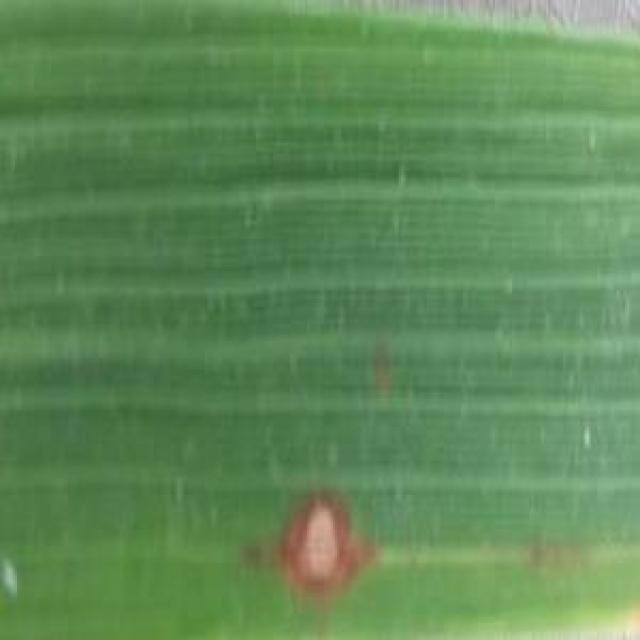Blast: (273, 501, 376, 591)
